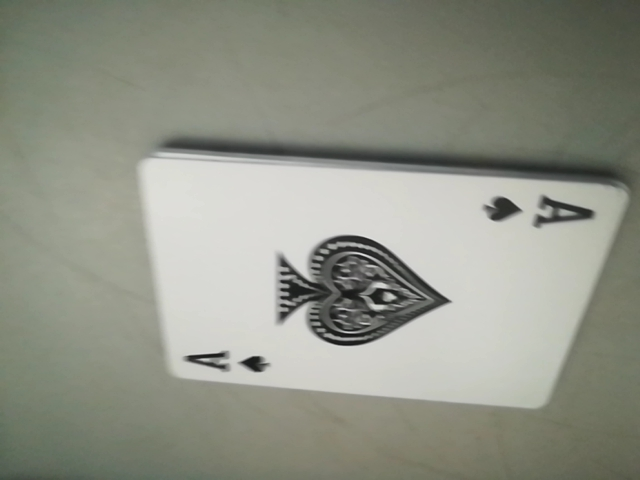ht a: (478, 186, 602, 236), (174, 345, 284, 381)
